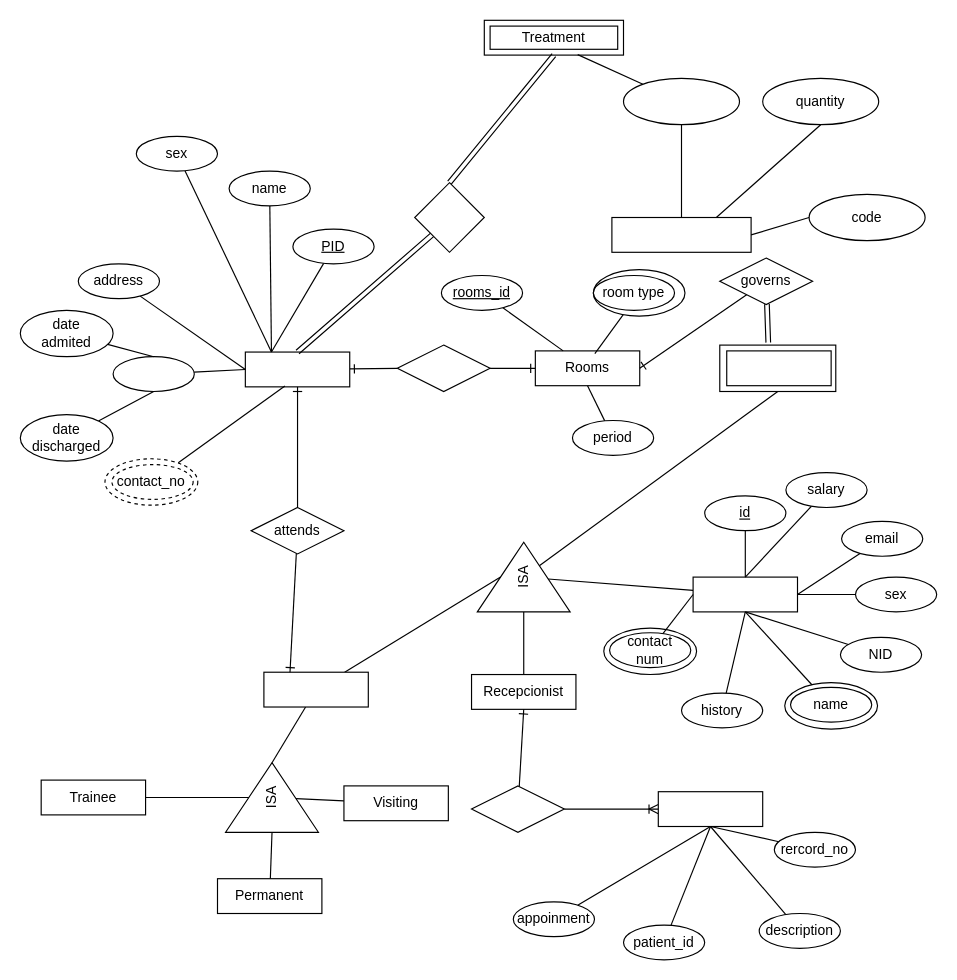
The diagram is 957 pixels wide and 980 high, and some of its shapes have lost their labels. The shapes that lost their labels are listed below. From the top down, each one's centre as x and y in pixels, then its label:
At pixel 681 101: "price".
At pixel 449 217: "bill".
At pixel 681 234: "Medicine".
At pixel 153 374: "Pdetails".
At pixel 297 369: "Patient".
At pixel 443 368: "assigend".
At pixel 778 368: "Nurse".
At pixel 745 594: "Employer".
At pixel 315 689: "Doctor".
At pixel 517 808: "mainteins".
At pixel 710 808: "Records".
